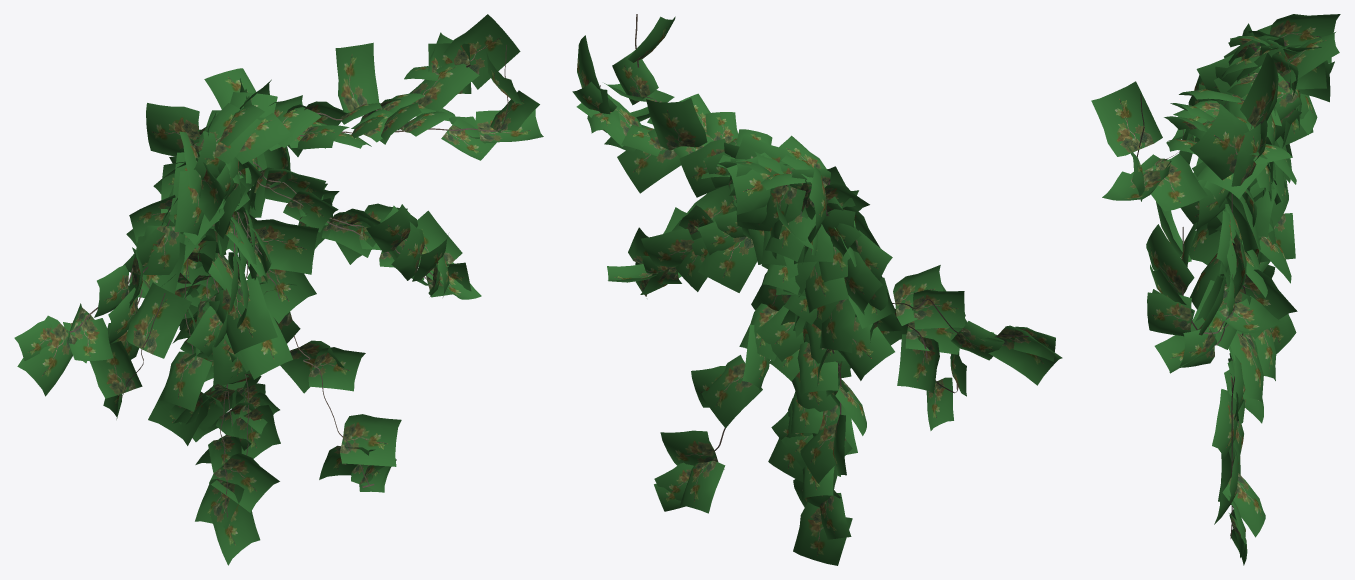
The model's file is SM_Climber_08a.fbx.
3 views of the same model, side by side, from view 1: azimuth 30°, elevation 25°; view 2: azimuth 150°, elevation 25°; view 3: azimuth 270°, elevation 25° (orthographic). The views are drawn at different scales.
Visible parts, largest first — view 1: SM_Climber_08a_LOD0; view 2: SM_Climber_08a_LOD0; view 3: SM_Climber_08a_LOD0.
Part boxes in pixels (x1=…): SM_Climber_08a_LOD0: x1=14, y1=14, x2=543, y2=565; SM_Climber_08a_LOD0: x1=572, y1=14, x2=1062, y2=565; SM_Climber_08a_LOD0: x1=1091, y1=14, x2=1340, y2=565.
Size of the model in its own units: 1435 by 560 by 1336.
